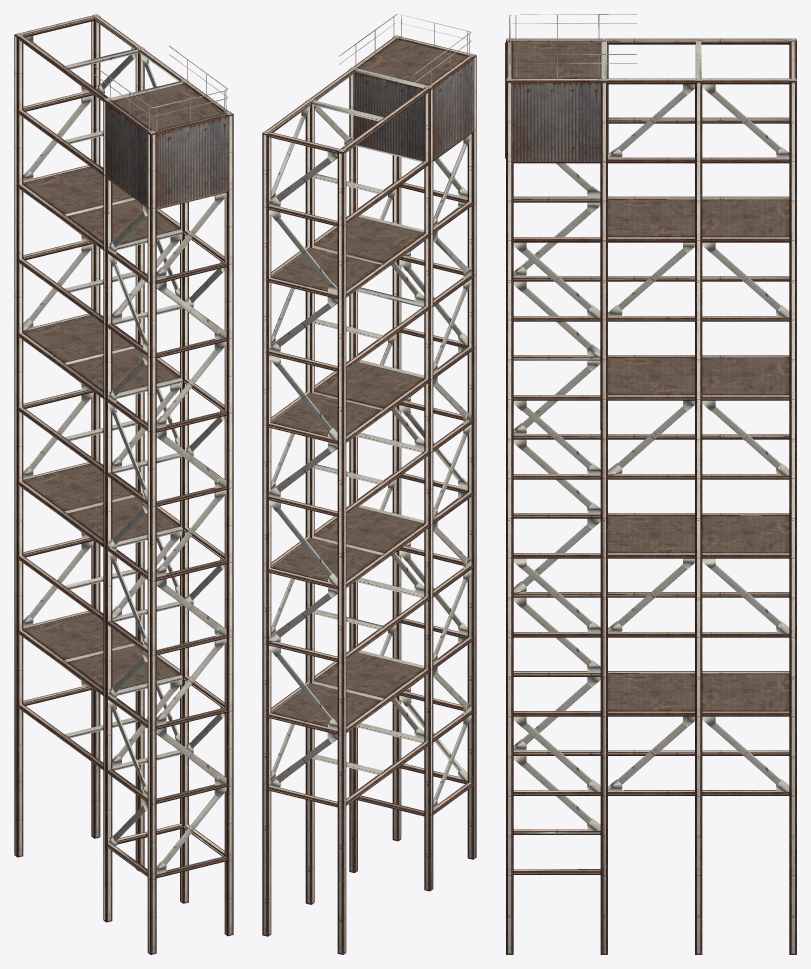
The model's file is rocket_crane_lift_shaft.glb.
3 renders of one model, left to right at view 1: azimuth 30°, elevation 25°; view 2: azimuth 150°, elevation 25°; view 3: azimuth 270°, elevation 25°, orthographic. The views are drawn at different scales.
Visible parts, largest first — view 1: rocket_crane_lift_shaft_LOD0; view 2: rocket_crane_lift_shaft_LOD0; view 3: rocket_crane_lift_shaft_LOD0.
Part boxes in pixels (x1,y1,x2,y2): rocket_crane_lift_shaft_LOD0: (14,14,233,954); rocket_crane_lift_shaft_LOD0: (262,14,476,954); rocket_crane_lift_shaft_LOD0: (505,14,796,954).
Size of the model in its own units: 3.56 by 34.14 by 10.04.
4 materials, 4 textured.
